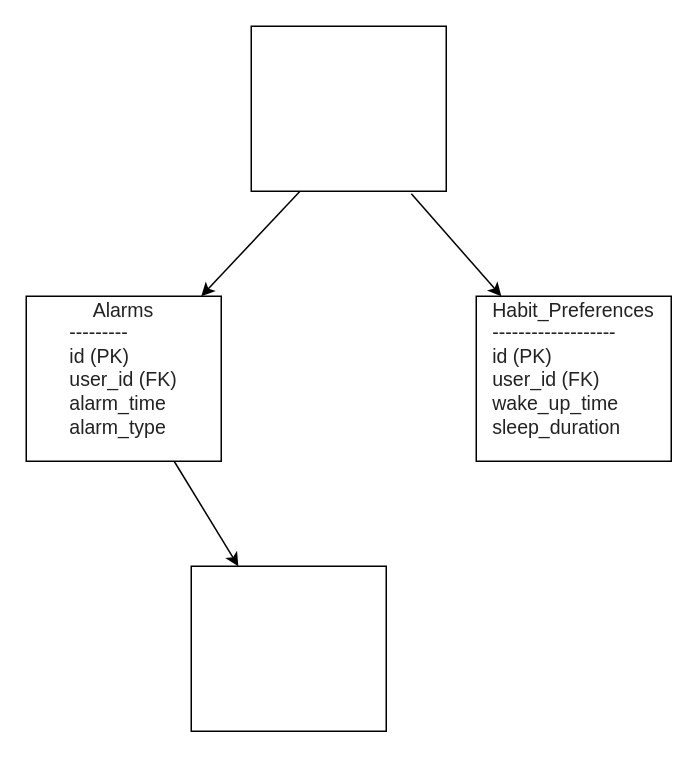
This 698x777 diagram has some shape labels left out. The centre of each missing label's shape, as x and y in pixels:
Challenges ------------- id (PK) question type difficulty: the point at 288,648
Users --------- id (PK) name email password: the point at 348,108
